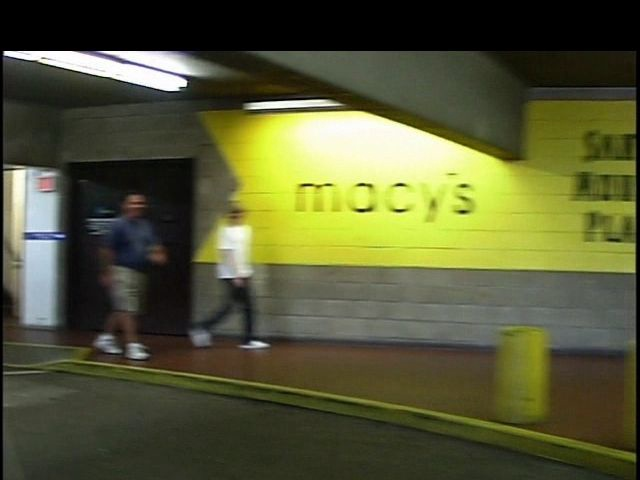person: (76, 183, 158, 364), (179, 193, 265, 363)
